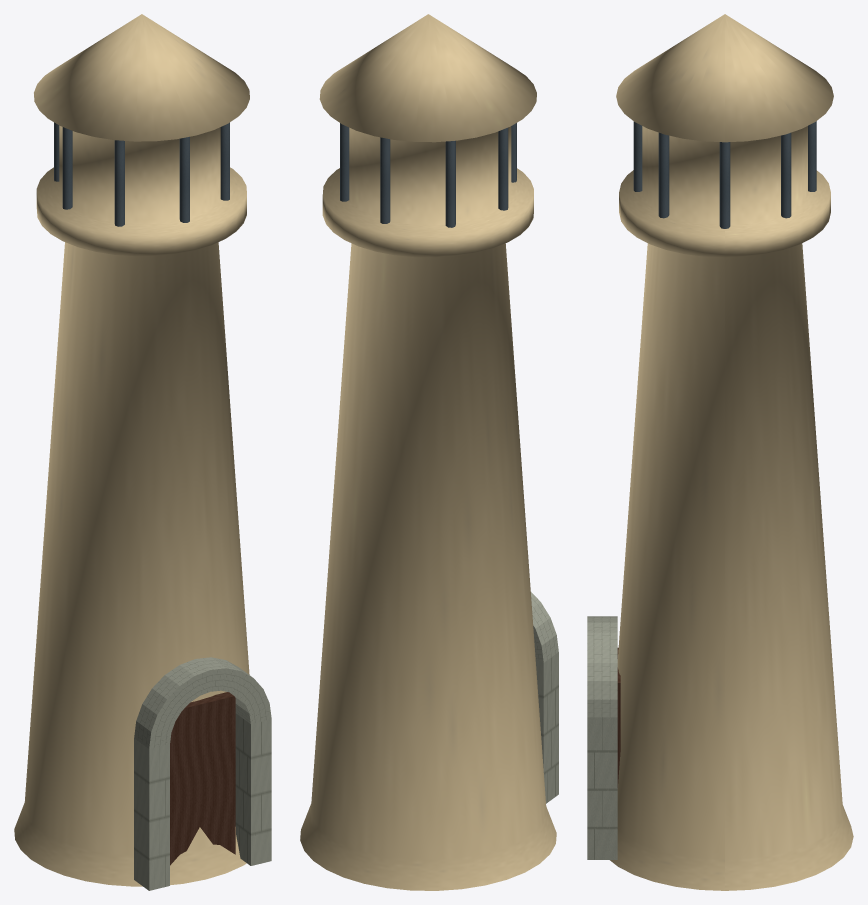
Rendered from lighthouse.glb.
The picture shows the model from 3 angles, left to right: view 1: azimuth 30°, elevation 25°; view 2: azimuth 150°, elevation 25°; view 3: azimuth 270°, elevation 25°; orthographic projection.
Visible parts, largest first — view 1: lighthouse; view 2: lighthouse; view 3: lighthouse.
Boxes of the visible parts, box(x1,y1,x2,y2) form: lighthouse: box(14, 14, 271, 890); lighthouse: box(300, 14, 558, 890); lighthouse: box(587, 14, 853, 890).
Size of the model in its own units: 1.7 by 6 by 1.76.
5 materials, 5 textured.
